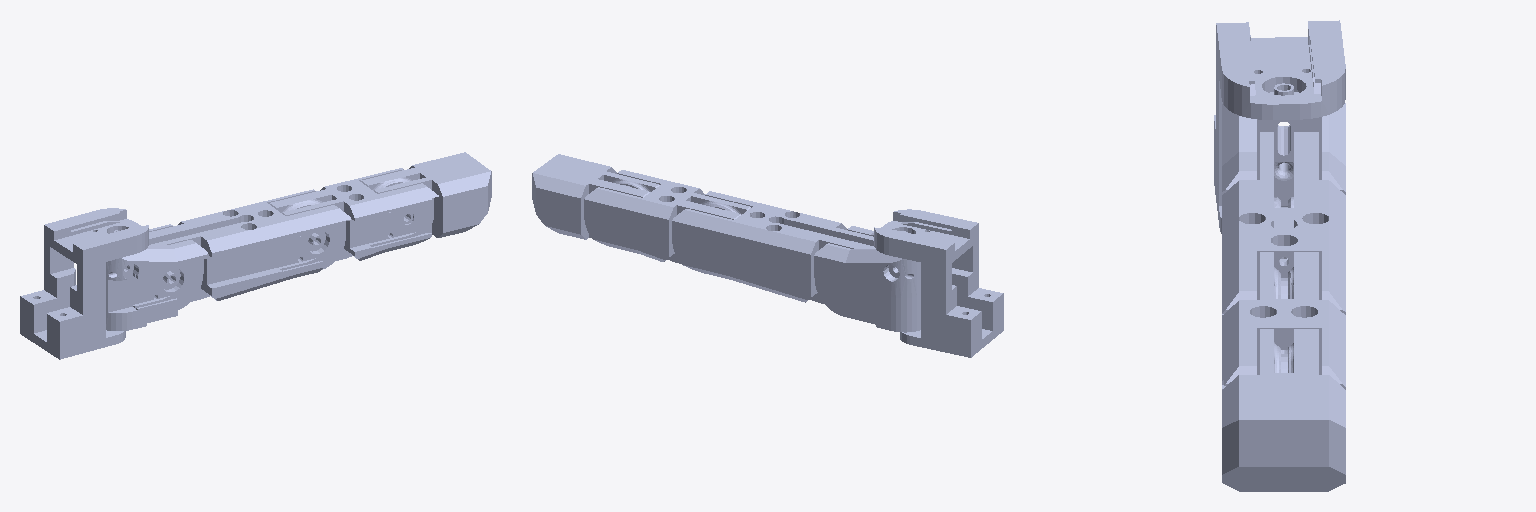
robot.urdf — URDF_FINGERS_4DOF-torsion_test:
<?xml version="1.0" encoding="utf-8"?>
<!-- This URDF was automatically created by SolidWorks to URDF Exporter! Originally created by [author] ([email redacted]) 
     Commit Version: 1.6.0-1-g15f4949  Build Version: 1.6.7594.29634
     For more information, please see http://wiki.ros.org/sw_urdf_exporter -->
<robot
  name="URDF_FINGERS_4DOF-torsion_test">
  <link
    name="MCP_Interface">
    <inertial>
      <origin
        xyz="-0.011784 -0.00060037 0.00097874"
        rpy="0 0 0" />
      <mass
        value="0.004148" />
      <inertia
        ixx="2.903E-07"
        ixy="-5.3855E-10"
        ixz="-3.6156E-08"
        iyy="3.0084E-07"
        iyz="-1.8421E-09"
        izz="3.0753E-07" />
    </inertial>
    <visual>
      <origin
        xyz="0 0 0"
        rpy="0 0 0" />
      <geometry>
        <mesh
          filename="./meshes/MCP_Interface.STL" />
      </geometry>
      <material
        name="">
        <color
          rgba="0.79216 0.81961 0.93333 1" />
      </material>
    </visual>
    <collision>
      <origin
        xyz="0 0 0"
        rpy="0 0 0" />
      <geometry>
        <mesh
          filename="./meshes/MCP_Interface.STL" />
      </geometry>
    </collision>
  </link>
  <link
    name="MCP2">
    <inertial>
      <origin
        xyz="0.0022789 0.00058372 0.00039511"
        rpy="0 0 0" />
      <mass
        value="0.0049061" />
      <inertia
        ixx="1.8781E-07"
        ixy="-1.1662E-08"
        ixz="2.4463E-09"
        iyy="3.2231E-07"
        iyz="1.7633E-09"
        izz="4.3178E-07" />
    </inertial>
    <visual>
      <origin
        xyz="0 0 0"
        rpy="0 0 0" />
      <geometry>
        <mesh
          filename="./meshes/MCP2.STL" />
      </geometry>
      <material
        name="">
        <color
          rgba="0.79216 0.81961 0.93333 1" />
      </material>
    </visual>
    <collision>
      <origin
        xyz="0 0 0"
        rpy="0 0 0" />
      <geometry>
        <mesh
          filename="./meshes/MCP2.STL" />
      </geometry>
    </collision>
  </link>
  <joint
    name="MCP2"
    type="revolute">
    <origin
      xyz="0 0 0"
      rpy="0 0 0" />
    <parent
      link="MCP_Interface" />
    <child
      link="MCP2" />
    <axis
      xyz="0 0 -1" />
    <limit
      lower="0"
      upper="0"
      effort="0"
      velocity="0" />
  </joint>
  <link
    name="MCP">
    <inertial>
      <origin
        xyz="0.020088 -0.00028562 0.00086695"
        rpy="0 0 0" />
      <mass
        value="0.0086719" />
      <inertia
        ixx="3.0958E-07"
        ixy="-1.0016E-07"
        ixz="-2.3558E-09"
        iyy="1.6234E-06"
        iyz="7.6344E-10"
        izz="1.5092E-06" />
    </inertial>
    <visual>
      <origin
        xyz="0 0 0"
        rpy="0 0 0" />
      <geometry>
        <mesh
          filename="./meshes/MCP.STL" />
      </geometry>
      <material
        name="">
        <color
          rgba="0.79216 0.81961 0.93333 1" />
      </material>
    </visual>
    <collision>
      <origin
        xyz="0 0 0"
        rpy="0 0 0" />
      <geometry>
        <mesh
          filename="./meshes/MCP.STL" />
      </geometry>
    </collision>
  </link>
  <joint
    name="MCP"
    type="revolute">
    <origin
      xyz="0.01175 0 0"
      rpy="-1.5708 0 0" />
    <parent
      link="MCP2" />
    <child
      link="MCP" />
    <axis
      xyz="0 0 1" />
    <limit
      lower="0"
      upper="0"
      effort="0"
      velocity="0" />
  </joint>
  <link
    name="PIP">
    <inertial>
      <origin
        xyz="0.01267 -0.00050957 0.00074352"
        rpy="0 0 0" />
      <mass
        value="0.0045258" />
      <inertia
        ixx="1.6699E-07"
        ixy="-5.6381E-08"
        ixz="-1.0123E-08"
        iyy="4.6314E-07"
        iyz="-7.909E-10"
        izz="4.1422E-07" />
    </inertial>
    <visual>
      <origin
        xyz="0 0 0"
        rpy="0 0 0" />
      <geometry>
        <mesh
          filename="./meshes/PIP.STL" />
      </geometry>
      <material
        name="">
        <color
          rgba="0.79216 0.81961 0.93333 1" />
      </material>
    </visual>
    <collision>
      <origin
        xyz="0 0 0"
        rpy="0 0 0" />
      <geometry>
        <mesh
          filename="./meshes/PIP.STL" />
      </geometry>
    </collision>
  </link>
  <joint
    name="PIP"
    type="revolute">
    <origin
      xyz="0.042 -0.00075 0"
      rpy="0 0 0" />
    <parent
      link="MCP" />
    <child
      link="PIP" />
    <axis
      xyz="0 0 1" />
    <limit
      lower="0"
      upper="0"
      effort="0"
      velocity="0" />
  </joint>
  <link
    name="DIP">
    <inertial>
      <origin
        xyz="0.011629 -0.00065192 0.00010443"
        rpy="0 0 0" />
      <mass
        value="0.0047629" />
      <inertia
        ixx="1.744E-07"
        ixy="8.7284E-09"
        ixz="2.5375E-09"
        iyy="3.6572E-07"
        iyz="8.2022E-10"
        izz="3.4776E-07" />
    </inertial>
    <visual>
      <origin
        xyz="0 0 0"
        rpy="0 0 0" />
      <geometry>
        <mesh
          filename="./meshes/DIP.STL" />
      </geometry>
      <material
        name="">
        <color
          rgba="0.79216 0.81961 0.93333 1" />
      </material>
    </visual>
    <collision>
      <origin
        xyz="0 0 0"
        rpy="0 0 0" />
      <geometry>
        <mesh
          filename="./meshes/DIP.STL" />
      </geometry>
    </collision>
  </link>
  <joint
    name="DIP"
    type="revolute">
    <origin
      xyz="0.026 -0.0005 0"
      rpy="0 0 0" />
    <parent
      link="PIP" />
    <child
      link="DIP" />
    <axis
      xyz="0 0 1" />
    <limit
      lower="0"
      upper="0"
      effort="0"
      velocity="0" />
  </joint>
</robot>

--- Facts derived from the render (not from the file) ---
Views: 3 orthographic renders of the robot side by side, from view 1: azimuth 30°, elevation 25°; view 2: azimuth 150°, elevation 25°; view 3: azimuth 270°, elevation 25°.
Robot: URDF_FINGERS_4DOF-torsion_test — 5 links, 4 joints (4 revolute); root link MCP_Interface; default pose: every joint at zero.
Visible links, largest first — view 1: MCP, MCP_Interface, PIP, MCP2, DIP; view 2: MCP, MCP_Interface, MCP2, PIP, DIP; view 3: DIP, MCP, MCP_Interface, PIP, MCP2.
Boxes of the visible links, x1=… form: MCP: x1=149, y1=189, x2=350, y2=301; MCP_Interface: x1=20, y1=208, x2=148, y2=359; PIP: x1=269, y1=168, x2=438, y2=260; MCP2: x1=106, y1=224, x2=208, y2=330; DIP: x1=361, y1=152, x2=491, y2=237; MCP: x1=672, y1=191, x2=875, y2=303; MCP_Interface: x1=874, y1=209, x2=1003, y2=357; MCP2: x1=814, y1=226, x2=920, y2=332; PIP: x1=584, y1=170, x2=750, y2=263; DIP: x1=532, y1=154, x2=659, y2=239; DIP: x1=1222, y1=329, x2=1345, y2=491; MCP: x1=1222, y1=132, x2=1345, y2=314; MCP_Interface: x1=1214, y1=20, x2=1345, y2=233; PIP: x1=1222, y1=252, x2=1345, y2=389; MCP2: x1=1222, y1=83, x2=1345, y2=206.
Size in the robot's own frame: 0.1279 by 0.0192 by 0.0285 metres.
5 mesh visuals loaded from 5 distinct referenced files (5 binary STL).